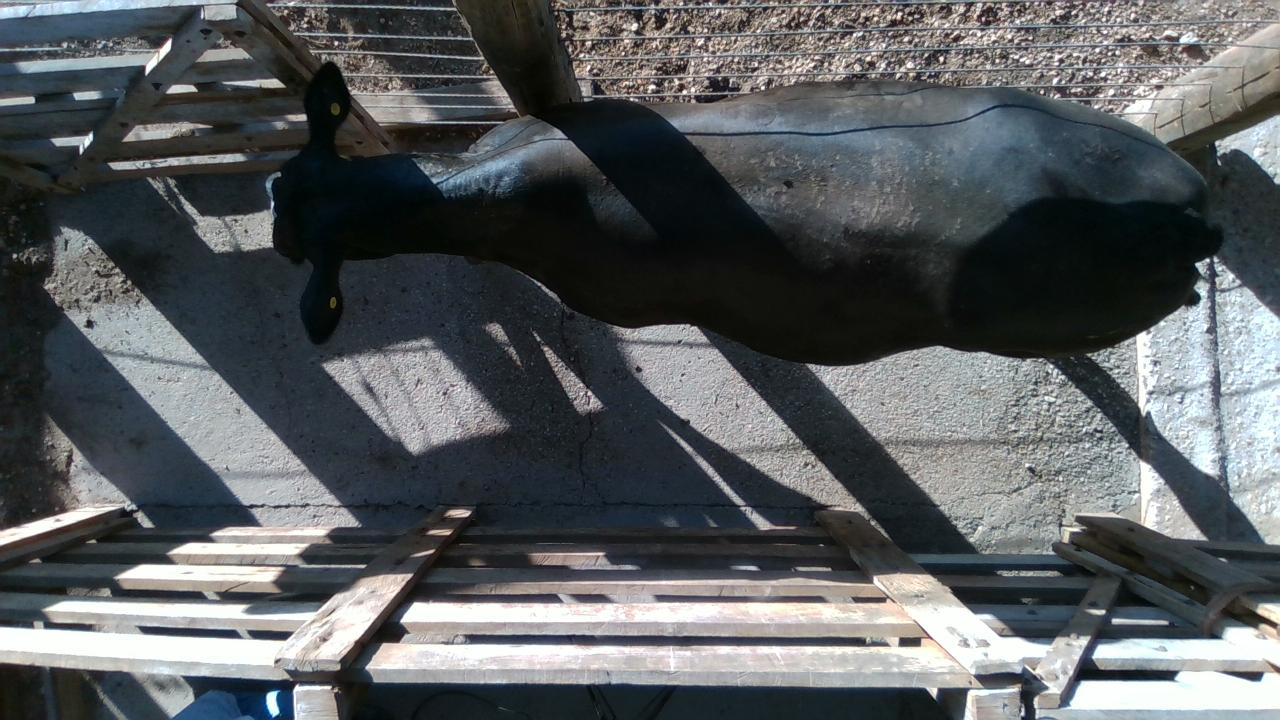cattle: (265, 60, 1223, 367)
